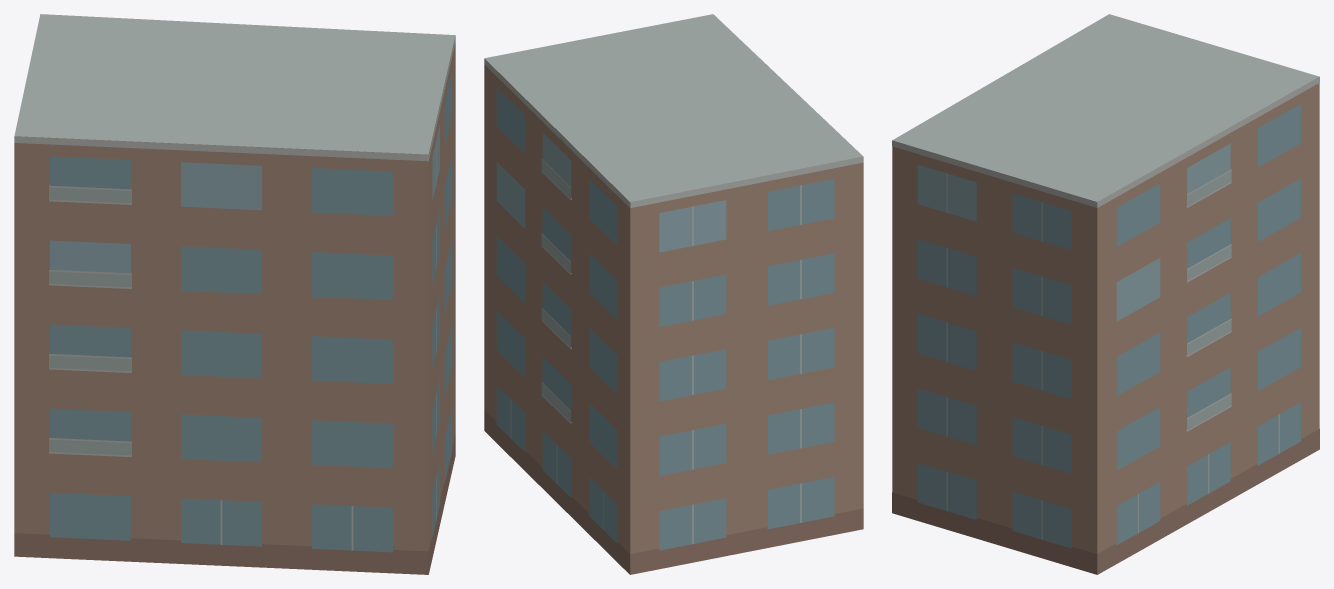
Rendered from survey-upis-33009595.glb.
3 renders of one model, left to right at view 1: azimuth 30°, elevation 25°; view 2: azimuth 150°, elevation 25°; view 3: azimuth 270°, elevation 25°, orthographic. The views are drawn at different scales.
Visible parts, largest first — view 1: survey-upis-33009595.tmp; view 2: survey-upis-33009595.tmp; view 3: survey-upis-33009595.tmp.
Part boxes in pixels (box(x1,y1,x2,y2)): survey-upis-33009595.tmp: box(14, 14, 455, 574); survey-upis-33009595.tmp: box(484, 14, 863, 574); survey-upis-33009595.tmp: box(892, 14, 1319, 574).
Bounding box in the file's own units: 16.5 × 15.25 × 15.86.
